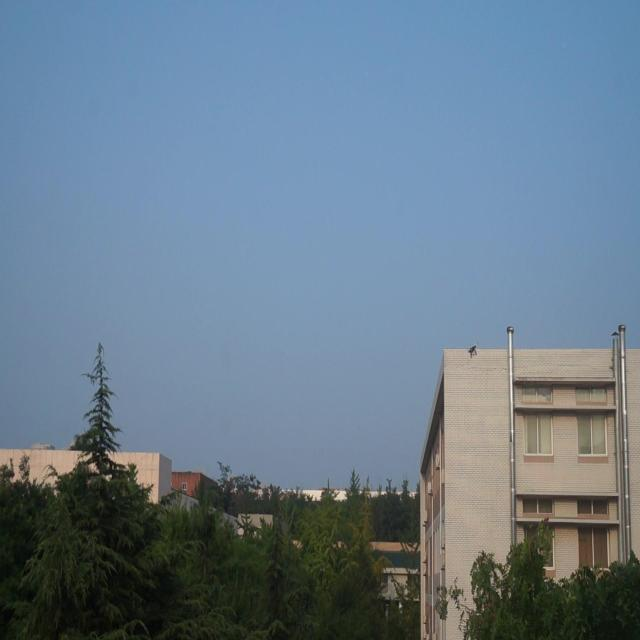drone: (467, 342, 478, 360)
